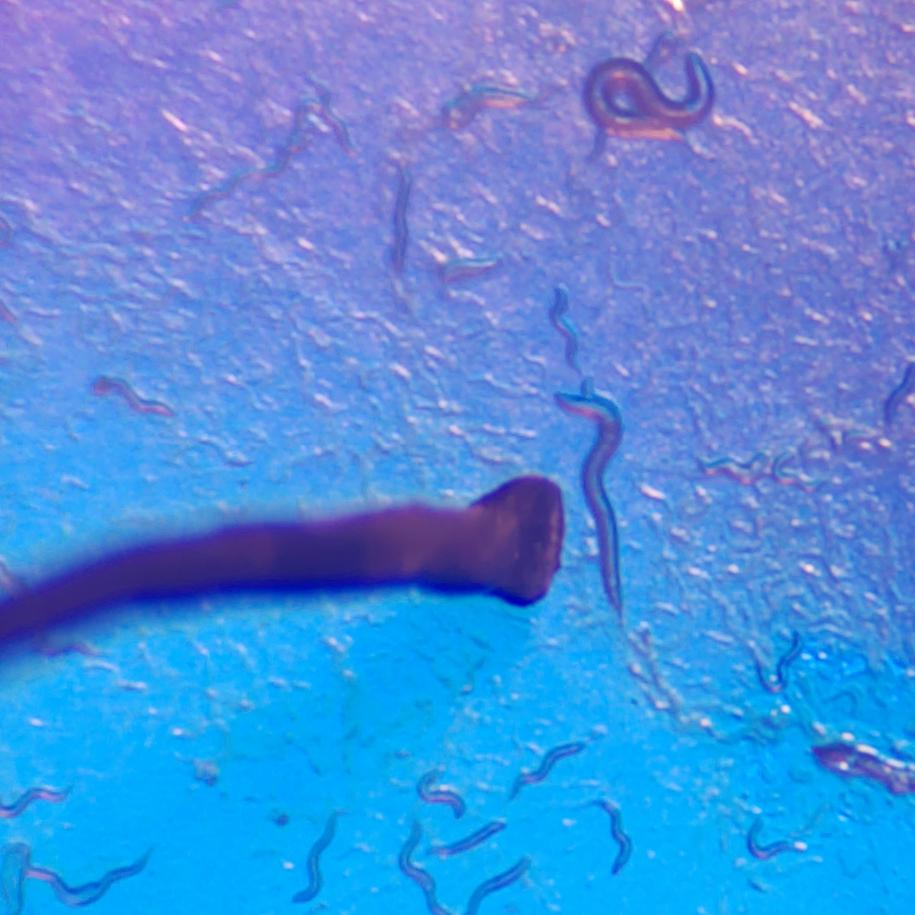pick: (0, 476, 563, 646)
worm: (556, 377, 622, 618), (583, 52, 713, 138), (398, 819, 450, 914), (509, 741, 585, 799), (292, 811, 338, 901), (465, 856, 530, 914), (592, 799, 632, 874), (428, 820, 505, 858), (755, 631, 802, 693), (549, 285, 580, 374), (746, 817, 805, 859), (417, 769, 465, 818), (0, 786, 69, 818)
